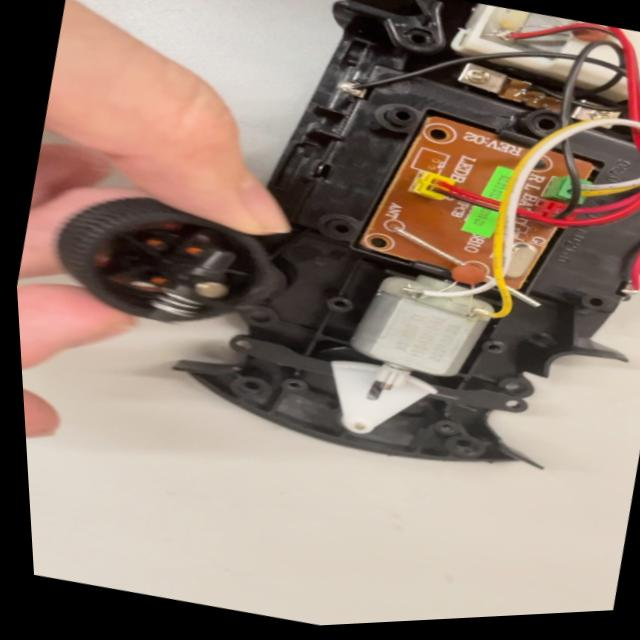motor: (333, 256, 503, 413)
wheel: (46, 169, 300, 356)
